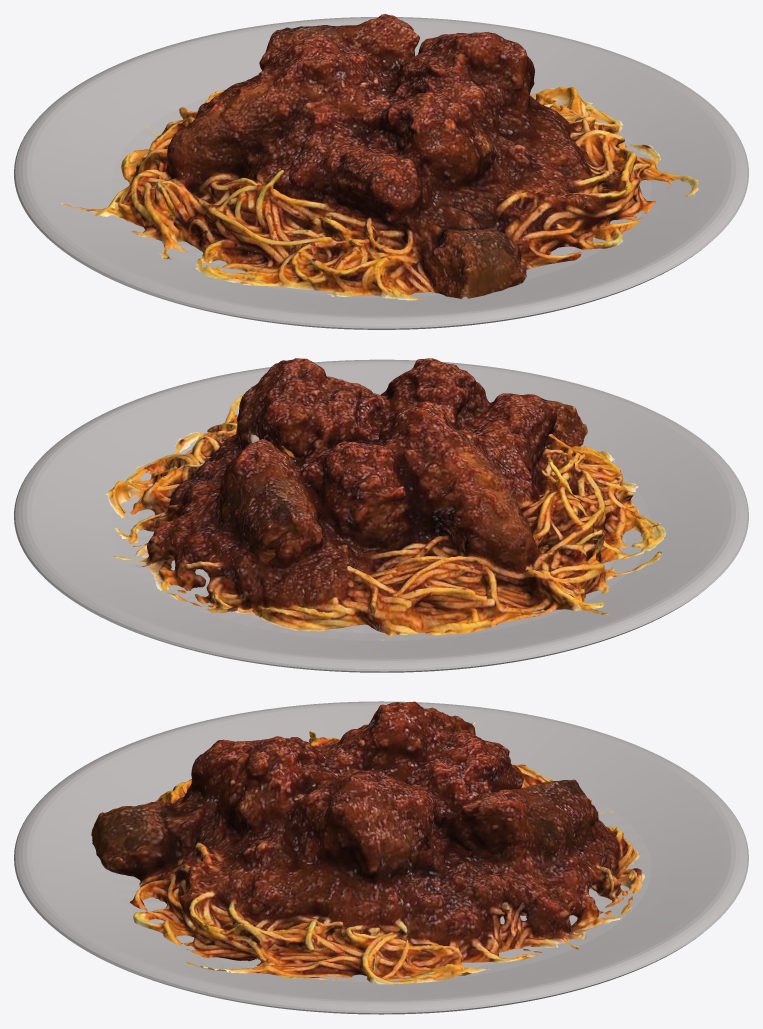
Rendered from massa-almondegas-linguica.glb.
The picture shows the model from 3 angles, top to bottom: view 1: azimuth 30°, elevation 25°; view 2: azimuth 150°, elevation 25°; view 3: azimuth 270°, elevation 25°; orthographic projection.
Parts seen in each view (by area): view 1: Object_4, Object_7, Object_5; view 2: Object_4, Object_7, Object_5; view 3: Object_7, Object_4, Object_5.
Part boxes in pixels (<box>): Object_4: <box>147,14,626,293</box>; Object_7: <box>14,17,748,329</box>; Object_5: <box>61,16,699,300</box>; Object_4: <box>114,358,633,640</box>; Object_7: <box>14,359,748,672</box>; Object_5: <box>106,384,665,637</box>; Object_7: <box>14,701,748,1014</box>; Object_4: <box>129,701,644,961</box>; Object_5: <box>91,722,631,984</box>.
Bounding box in the file's own units: 0.26 × 0.0641 × 0.26.
2 materials, 1 textured.
